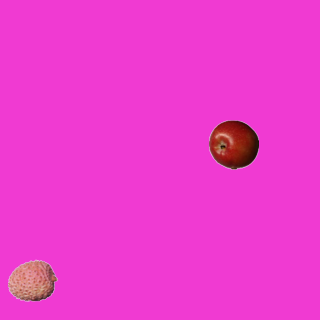Apple Braeburn: (208, 119, 258, 169)
Lychee: (7, 255, 57, 305)
